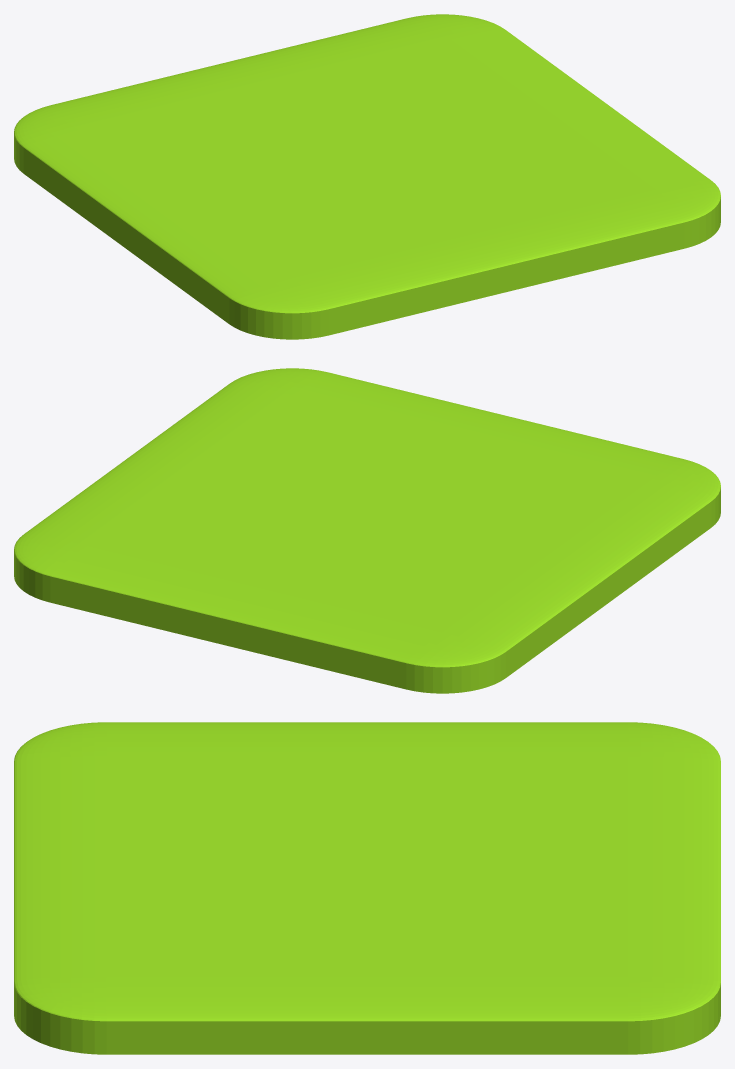
Rendered from rounded-corner-green.gltf.
The picture shows the model from 3 angles, top to bottom: view 1: azimuth 30°, elevation 25°; view 2: azimuth 150°, elevation 25°; view 3: azimuth 270°, elevation 25°; orthographic projection. The views are drawn at different scales.
Parts seen in each view (by area): view 1: Cube.001; view 2: Cube.001; view 3: Cube.001.
Boxes of the visible parts, x1,y1,x2,y2 form: Cube.001: (14,14,720,339); Cube.001: (14,368,720,693); Cube.001: (14,722,720,1054).
Size of the model in its own units: 10 by 0.6 by 10.
